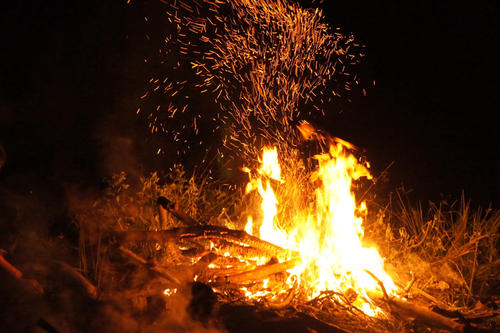fire: (243, 141, 398, 313)
